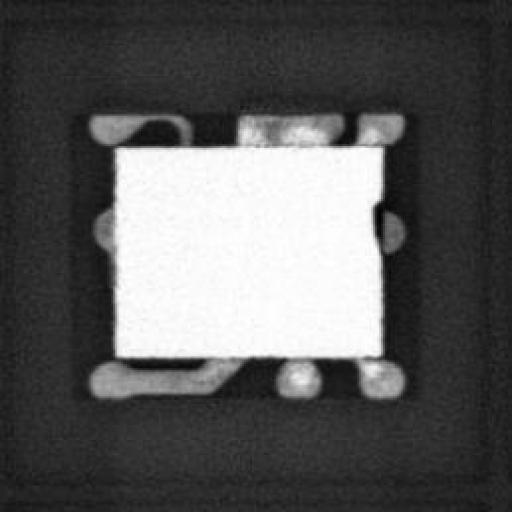DIE_BROKEN: (365, 192, 385, 246)
